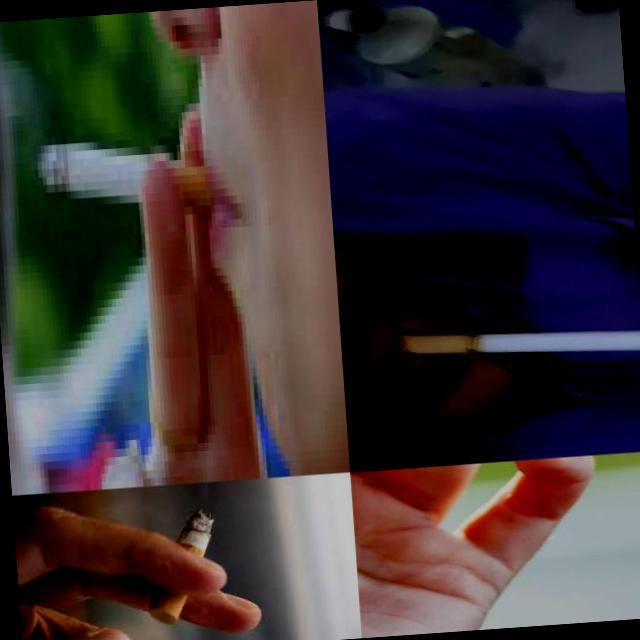smoke: (35, 128, 222, 230), (391, 320, 640, 370), (142, 506, 222, 626)
